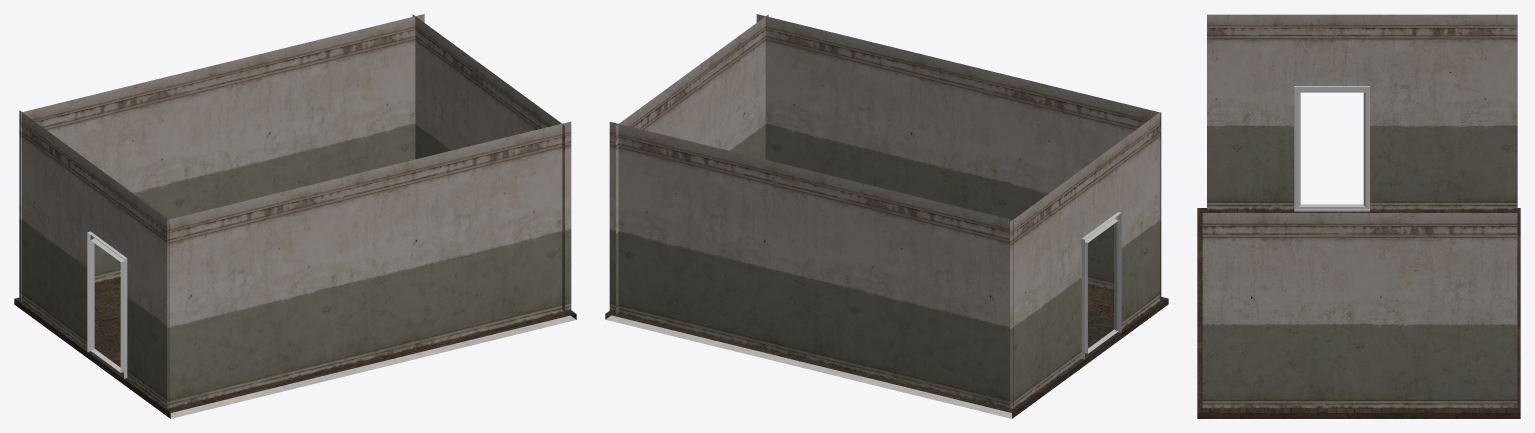
The model's file is room_6m_x_9m_sideroom_door_front.fbx.
3 views of the same model, side by side, from view 1: azimuth 30°, elevation 25°; view 2: azimuth 150°, elevation 25°; view 3: azimuth 270°, elevation 25° (orthographic). The views are drawn at different scales.
Visible parts, largest first — view 1: room_6m_x_9m_sideroom_door_front; view 2: room_6m_x_9m_sideroom_door_front; view 3: room_6m_x_9m_sideroom_door_front.
Part boxes in pixels (x1,y1,x2,y2): room_6m_x_9m_sideroom_door_front: [14, 14, 576, 418]; room_6m_x_9m_sideroom_door_front: [605, 14, 1168, 418]; room_6m_x_9m_sideroom_door_front: [1197, 14, 1520, 418].
Bounding box in the file's own units: 900 × 412 × 600.
